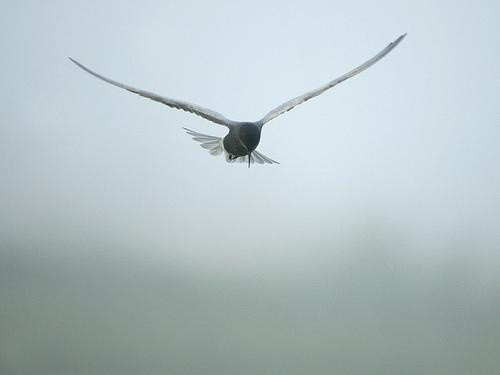bird: (66, 33, 409, 171)
